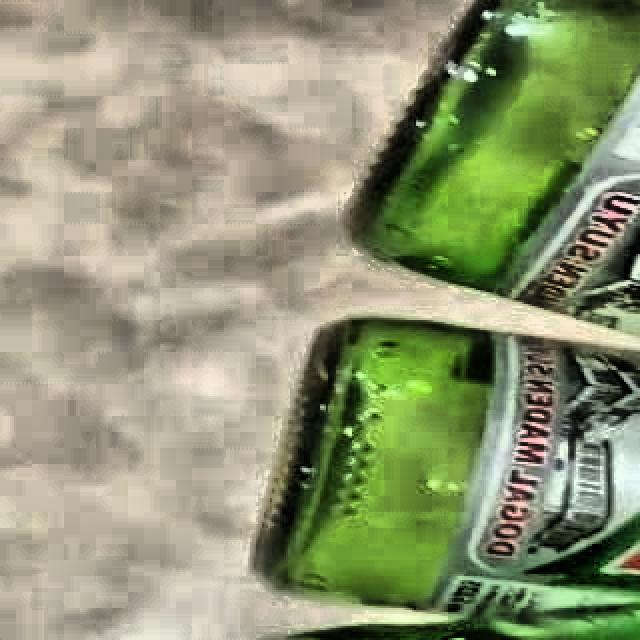glass: (256, 318, 640, 640)
